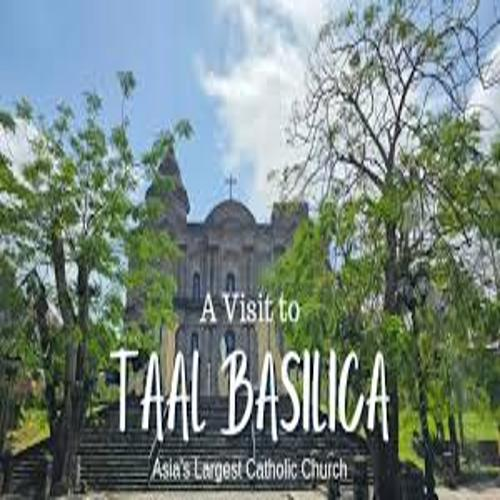Taal Basilica Church: (117, 131, 325, 408)
